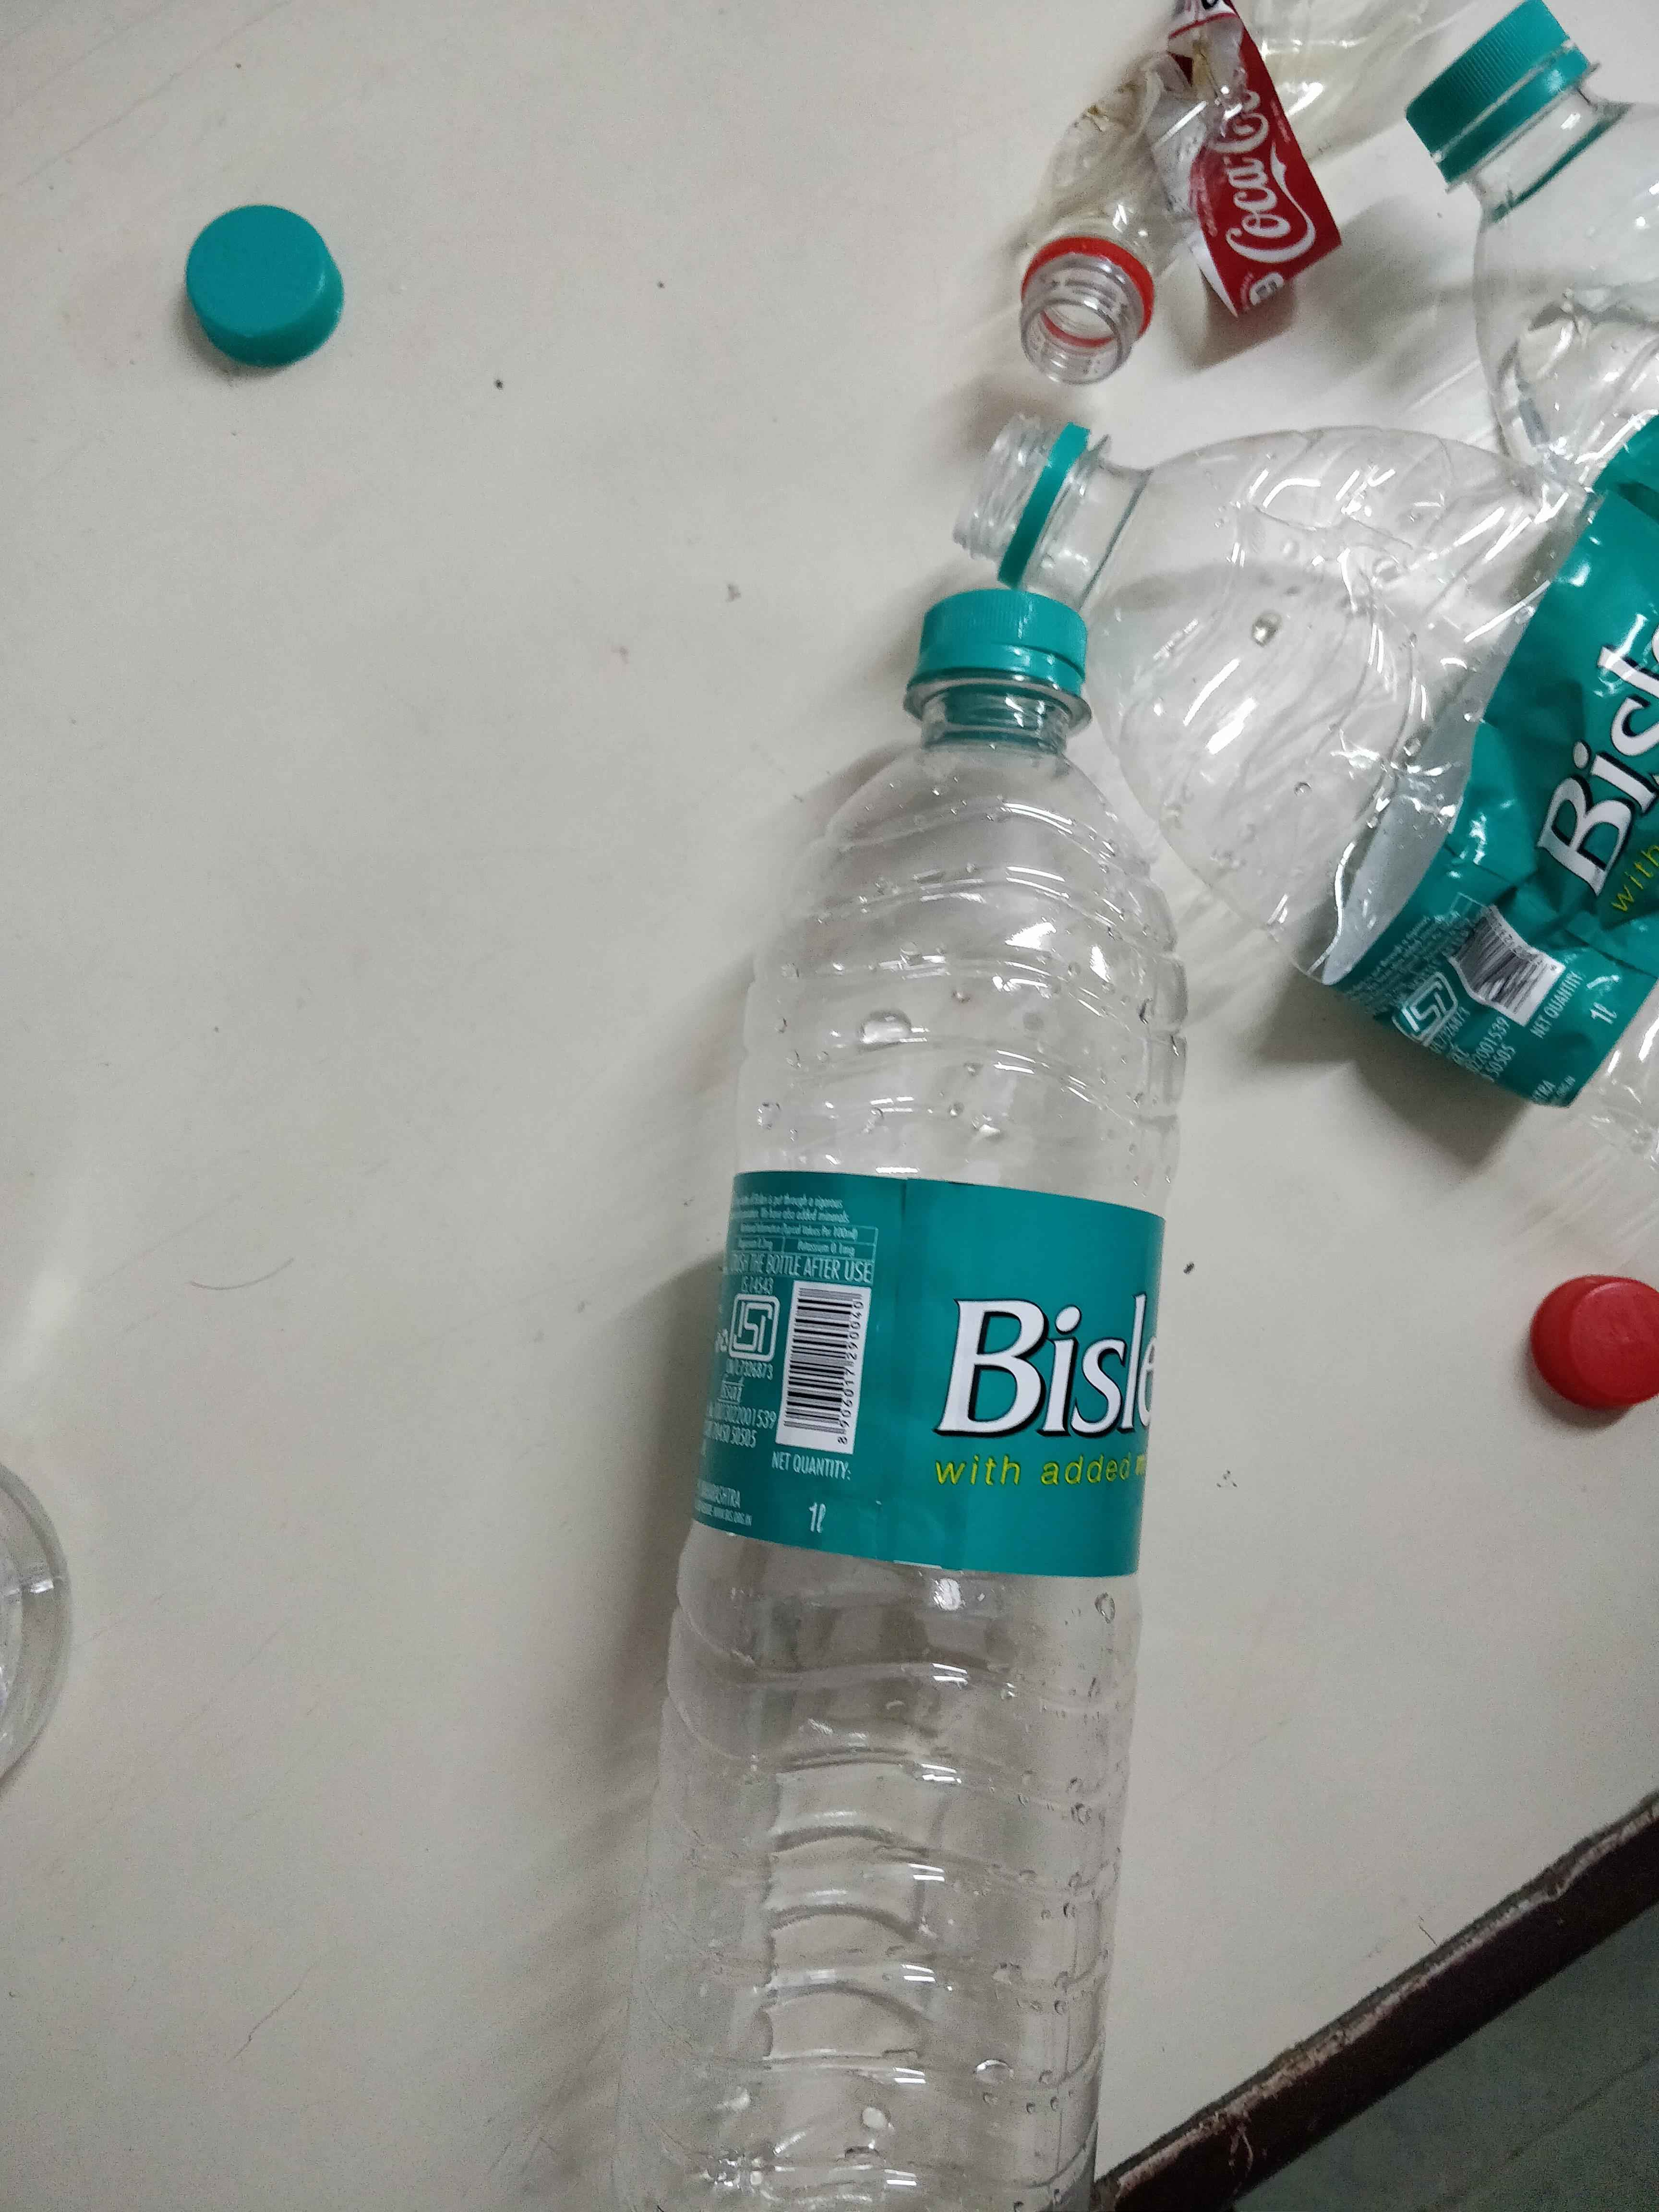Bisleri: (1415, 590, 1659, 977), (892, 1211, 1162, 1501)
Coca-Cola: (1155, 17, 1337, 256)
